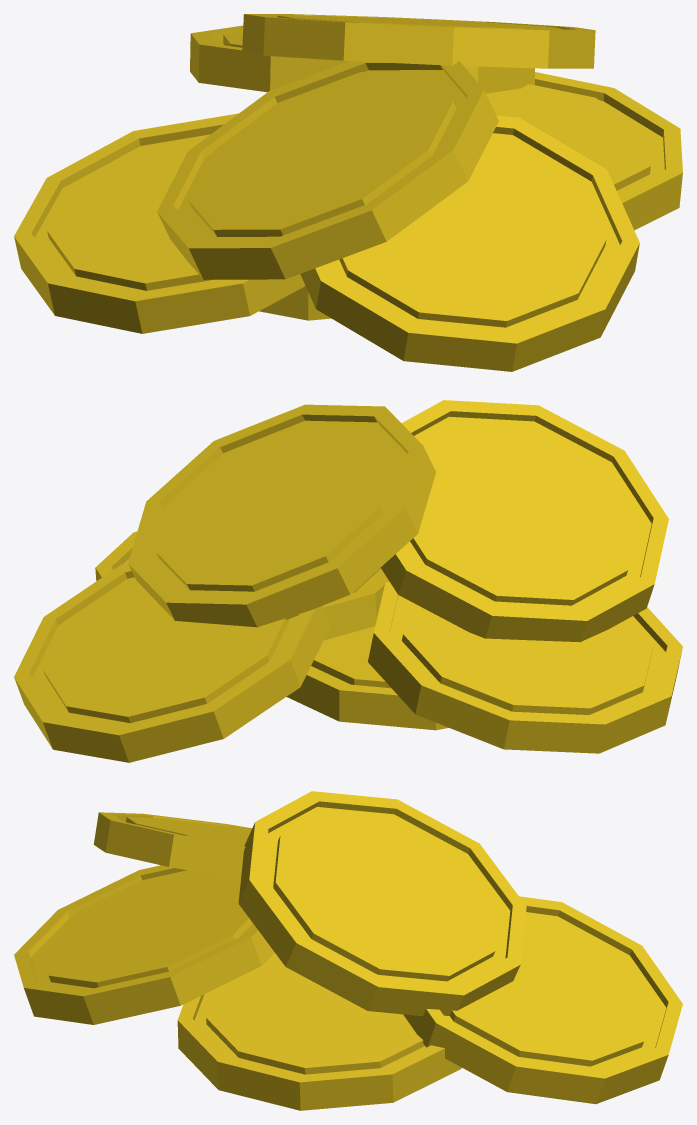
Rendered from gold pile.gltf.
3 renders of one model, top to bottom at view 1: azimuth 30°, elevation 25°; view 2: azimuth 150°, elevation 25°; view 3: azimuth 270°, elevation 25°, orthographic. The views are drawn at different scales.
Visible parts, largest first — view 1: Cylinder; view 2: Cylinder; view 3: Cylinder.
Boxes of the visible parts, x1,y1,x2,y2 form: Cylinder: [14, 14, 682, 371]; Cylinder: [14, 400, 682, 762]; Cylinder: [14, 791, 682, 1110].
Bounding box in the file's own units: 4 × 1.49 × 4.42.
